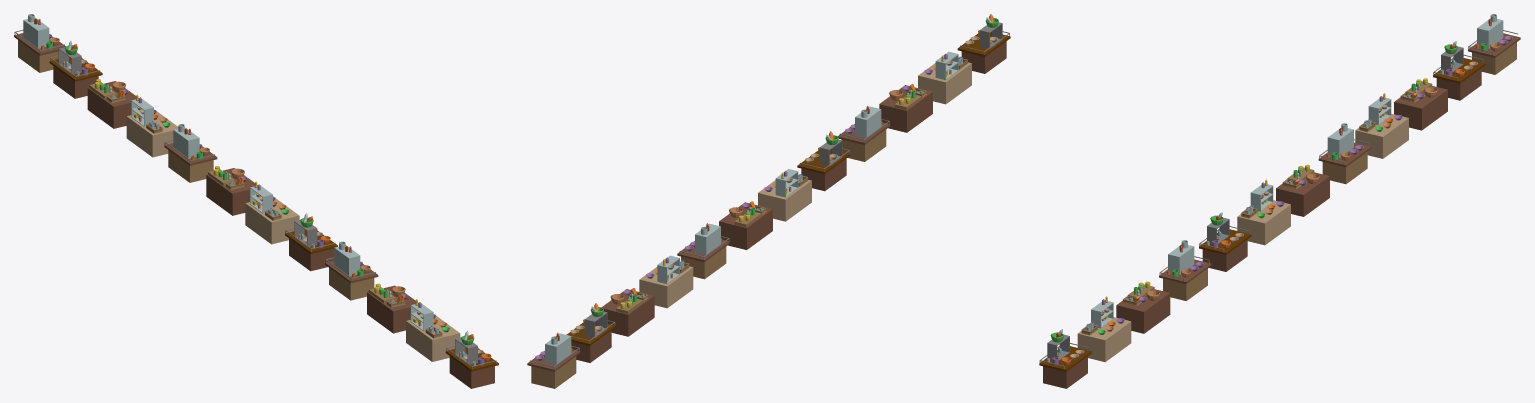
The model's file is RightMarket 1.fbx.
The picture shows the model from 3 angles, left to right: view 1: azimuth 30°, elevation 25°; view 2: azimuth 150°, elevation 25°; view 3: azimuth 330°, elevation 25°; orthographic projection.
Parts seen in each view (by area): view 1: pCube244; view 2: pCube244; view 3: pCube244.
Part boxes in pixels (x1=…): pCube244: x1=14, y1=14, x2=498, y2=388; pCube244: x1=527, y1=14, x2=1010, y2=388; pCube244: x1=1039, y1=14, x2=1520, y2=388.
Size of the model in its own units: 3.12 by 5.1 by 88.46.
